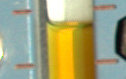border: (94, 57, 120, 66), (92, 3, 118, 11), (9, 7, 34, 15), (12, 63, 36, 70)
liquidlevel: (45, 19, 95, 31)
